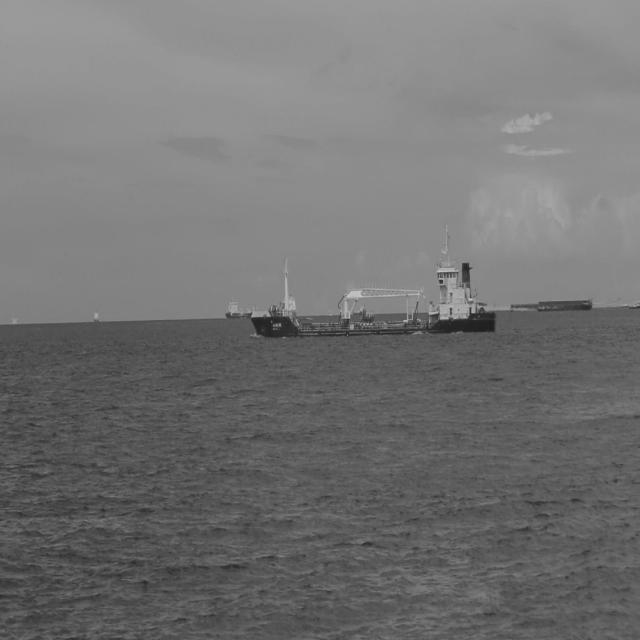ship: (249, 210, 499, 344), (223, 288, 262, 325), (536, 296, 594, 314)
